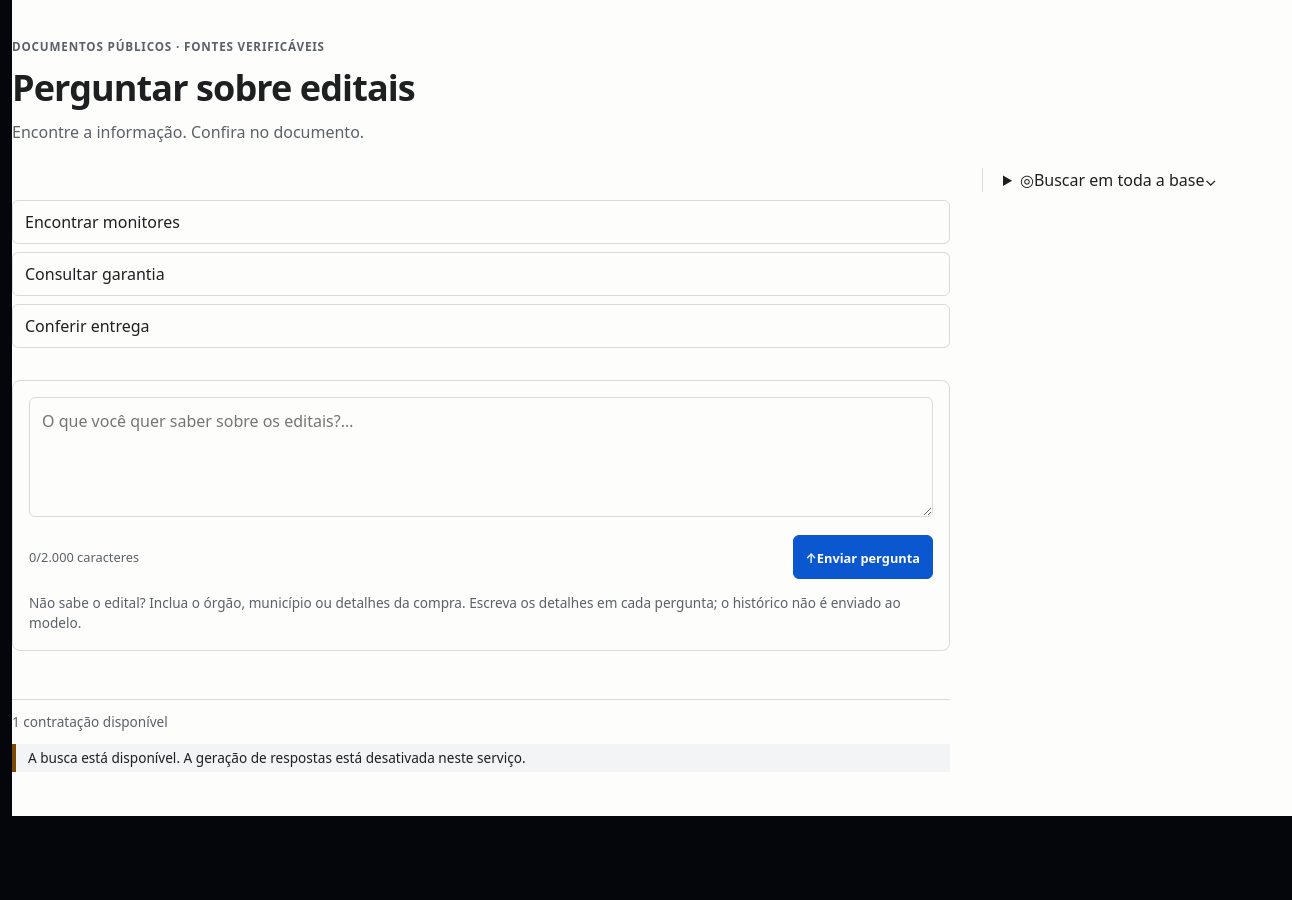
não envia pergunta vazia e mostra aviso de geração desativada
Expected: the text "1 contratação disponível" is shown, [12,712,168,731]
Expected: the text "geração de respostas está desativada" is shown, [28,748,526,767]
Click the button "↑Enviar pergunta".
click(863, 557)  # box [792,535,933,579]
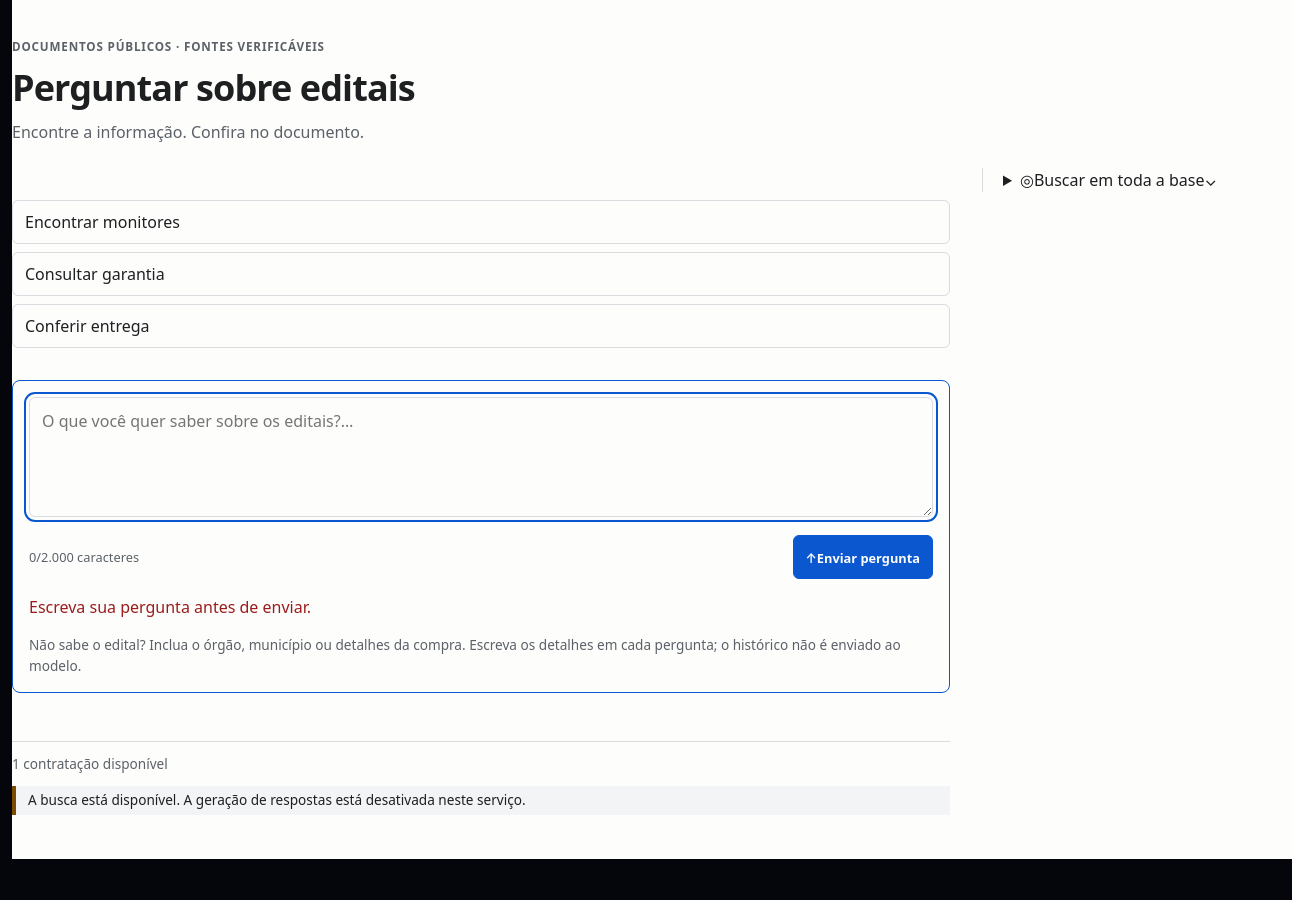
Expected: the text "Escreva sua pergunta antes de enviar." is shown, [29,596,311,618]
